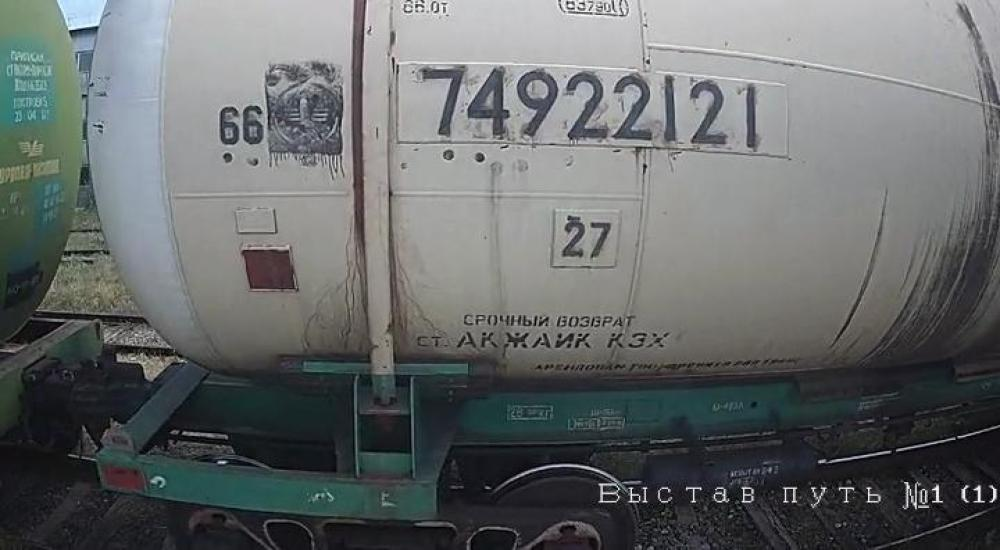Wagon-number: (415, 61, 764, 154)
